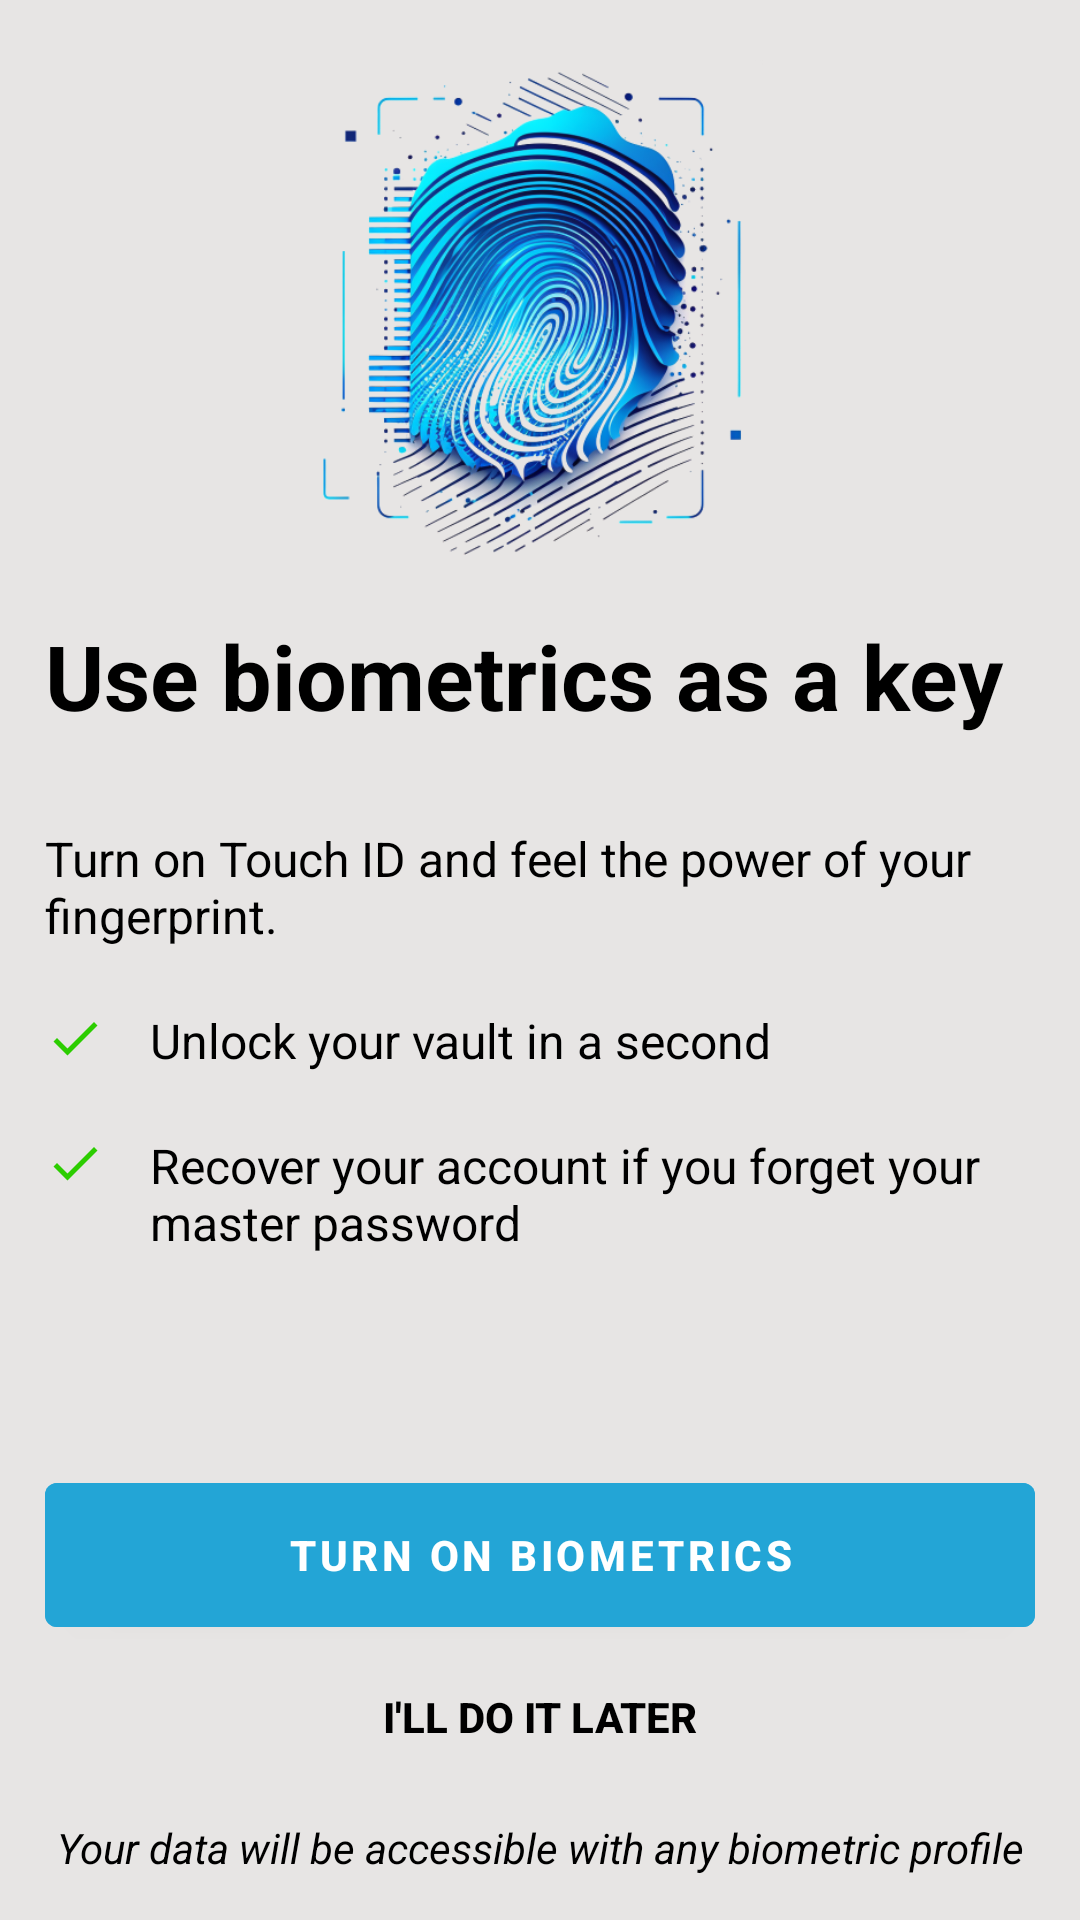

Named icons in this screenshot (1080 × 1920) and their bounding boxes, (x1,y1,x2,y2):
checked: (53,1022,98,1056), (53,1147,98,1181)
